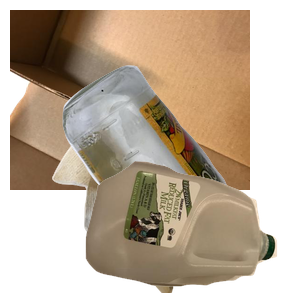cardboard: (10, 10, 250, 190)
glass: (60, 63, 300, 243)
plastic: (83, 159, 300, 300)
trash: (50, 120, 219, 300)
